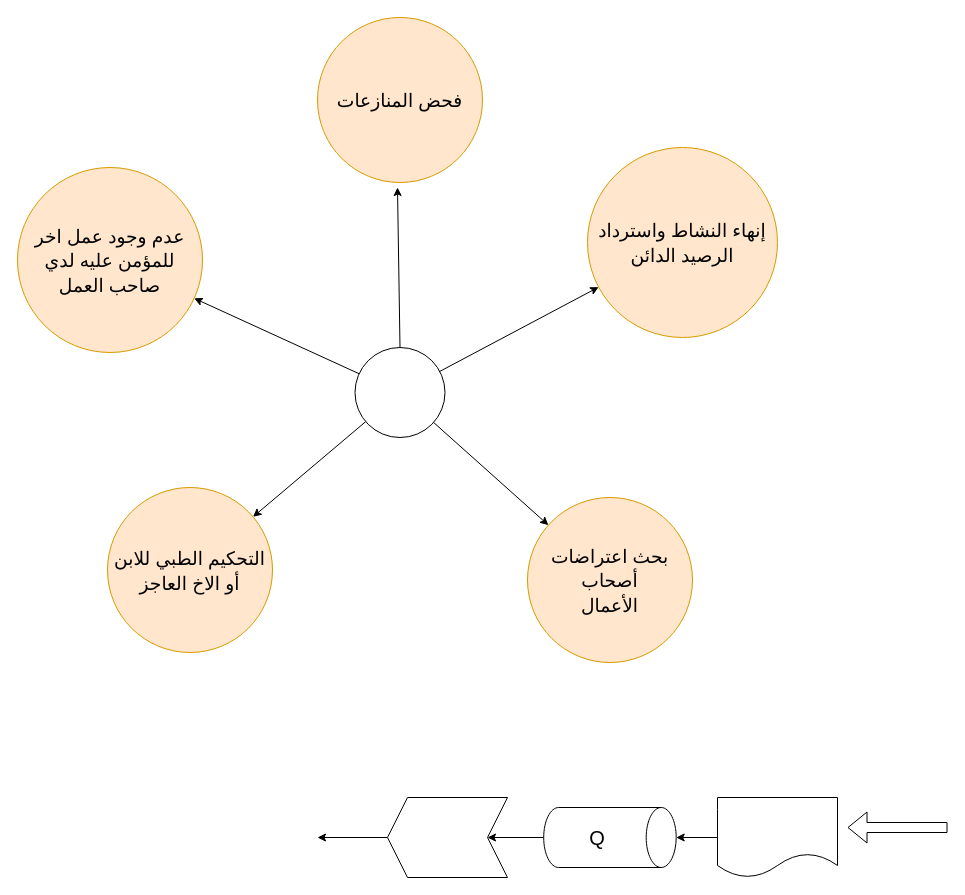
Some shapes in this 965 by 895 pixel diagram are drawn without their labels. Each missing label, with the centre of its shape:
استلام وتاكد من المستندات: the point at 777,837
تحضير محضر عرض: the point at 447,837
لجان المنطقه: the point at 399,392
